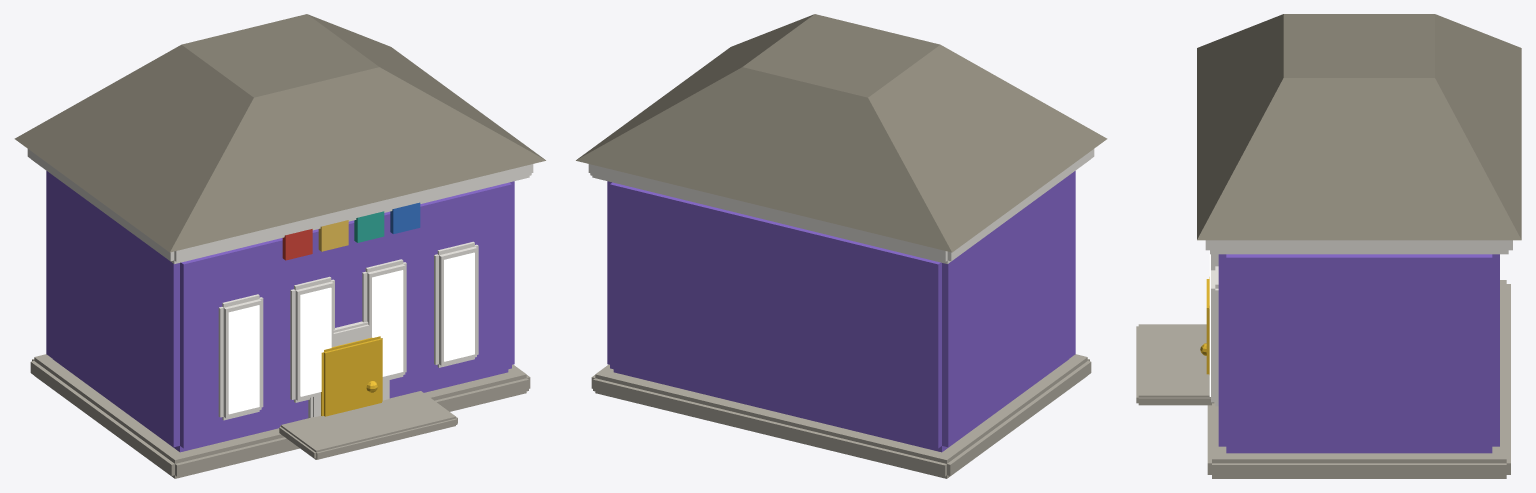
File: library.glb
3 renders of one model, left to right at view 1: azimuth 30°, elevation 25°; view 2: azimuth 150°, elevation 25°; view 3: azimuth 270°, elevation 25°, orthographic. The views are drawn at different scales.
Parts seen in each view (by area): view 1: library; view 2: library; view 3: library.
Boxes of the visible parts, left/top/right/bottom form: library: left=14, top=14, right=545, bottom=478; library: left=576, top=14, right=1107, bottom=478; library: left=1136, top=14, right=1521, bottom=478.
Size of the model in its own units: 2.1 by 1.75 by 1.78.
